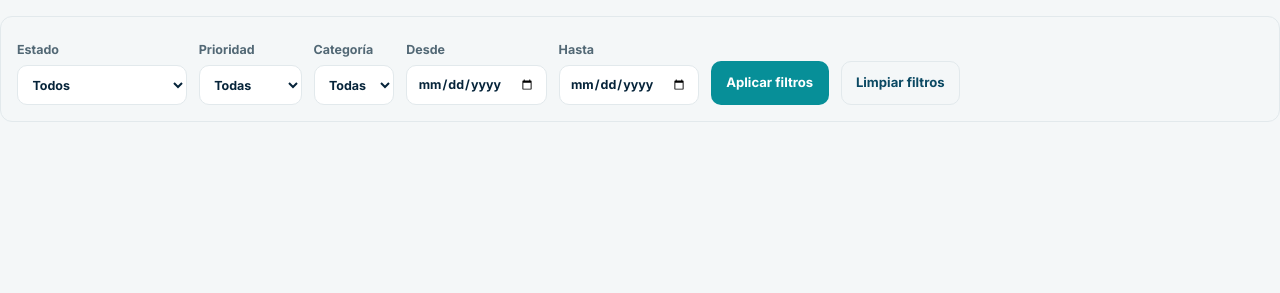
Scenario: TicketFilters › rechaza un rango invertido y permite limpiar los filtros
Type "2026-09-12" into the date field labelled "Desde" at (476, 85), box [406, 65, 547, 105]
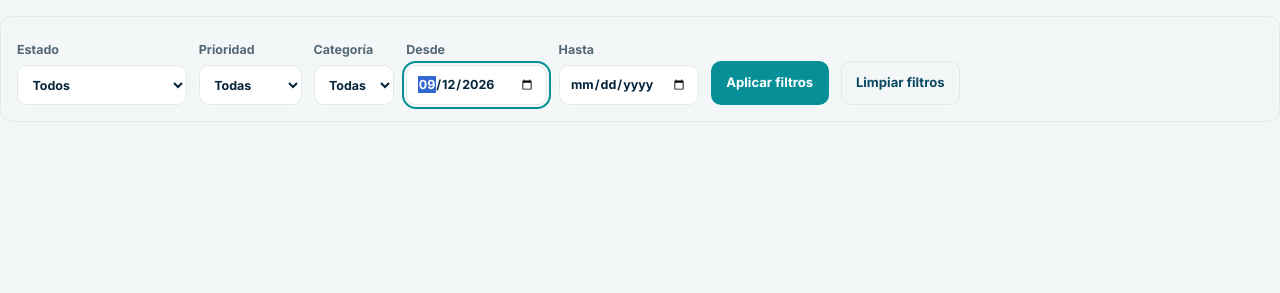
Type "2026-09-10" into the date field labelled "Hasta" at (629, 85), box [559, 65, 699, 105]
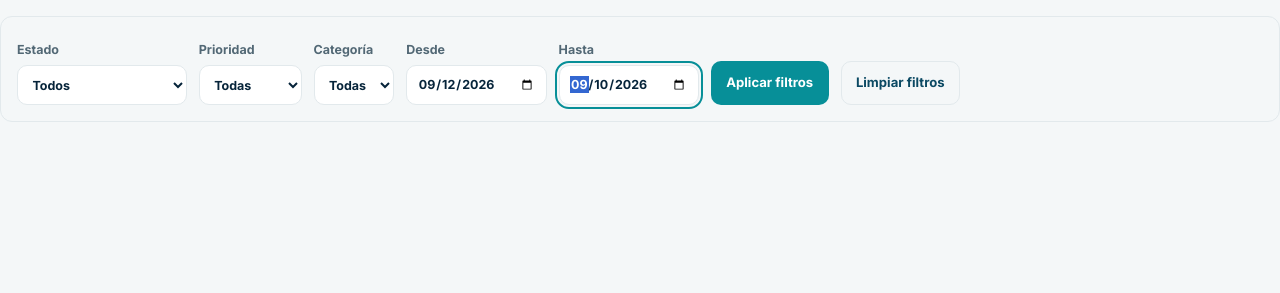
Click the button "Aplicar filtros" at (770, 83), box [711, 61, 828, 105]
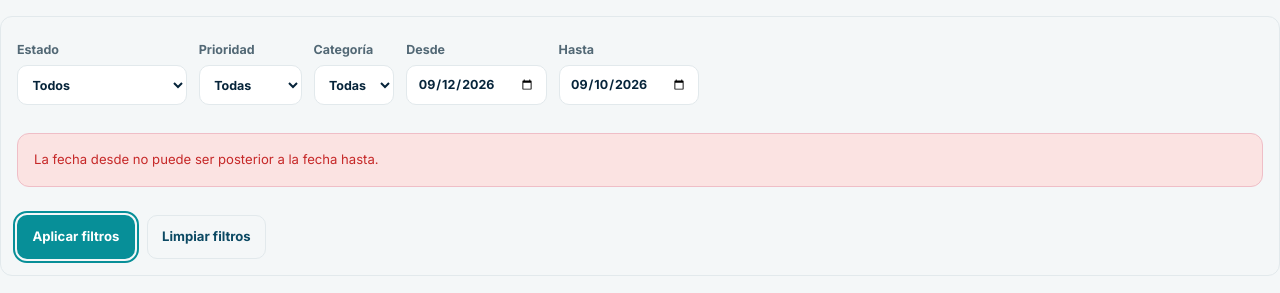
expect the message reads "La fecha desde no puede ser posterior a la fecha hasta.": met, box [34, 151, 379, 167]
Click the button "Limpiar filtros" at (206, 237), box [147, 215, 266, 259]
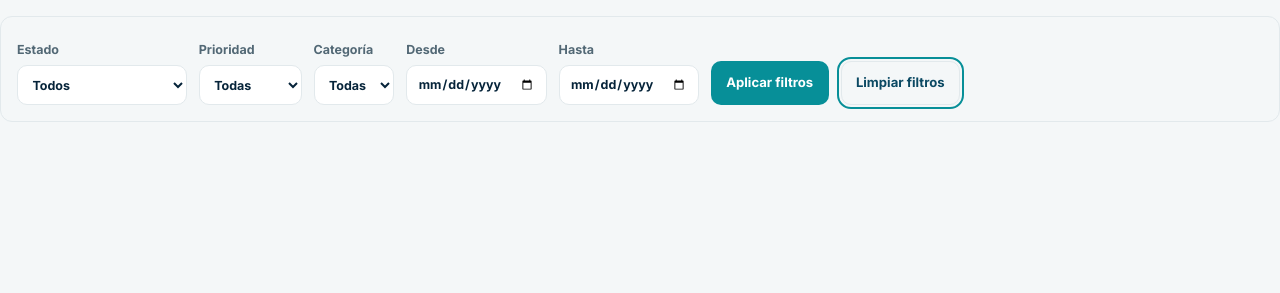
expect the date field labelled "Desde" is empty: met, box [406, 65, 547, 105]
expect the date field labelled "Hasta" is empty: met, box [559, 65, 699, 105]
